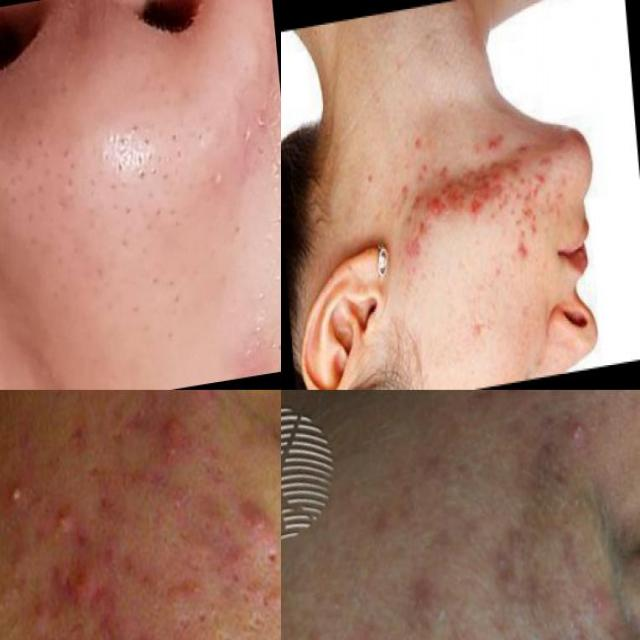8: (230, 488, 281, 560), (150, 404, 202, 466), (67, 544, 104, 606), (517, 175, 556, 228), (415, 182, 447, 228), (168, 390, 221, 410), (510, 231, 538, 267), (590, 390, 632, 409), (27, 626, 80, 640), (579, 627, 617, 640)
9: (0, 461, 44, 523), (46, 499, 82, 544), (558, 410, 595, 453)
blackheads: (441, 158, 502, 226)
dark spot: (112, 115, 164, 194), (147, 128, 191, 185), (104, 192, 141, 256), (38, 143, 82, 195), (199, 158, 241, 199), (139, 200, 182, 239)
